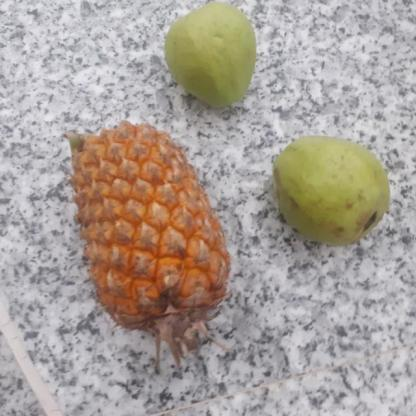guava: (264, 140, 387, 246), (162, 5, 256, 106)
pineapple: (66, 124, 232, 328)
